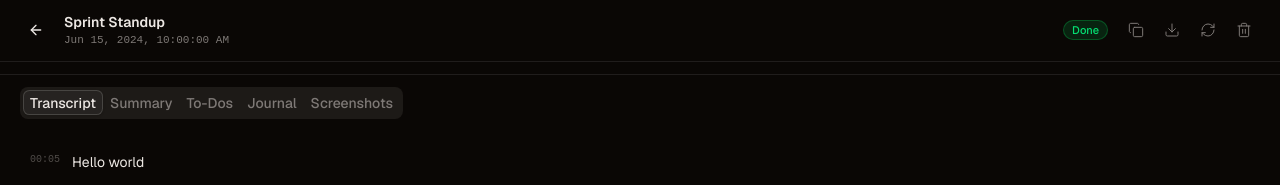
Test: Transcript › shows an empty screenshots message when none were captured
This screenshot has width=1280, height=185.
Click the tab "Screenshots" at [352, 102], box [304,90,400,115]
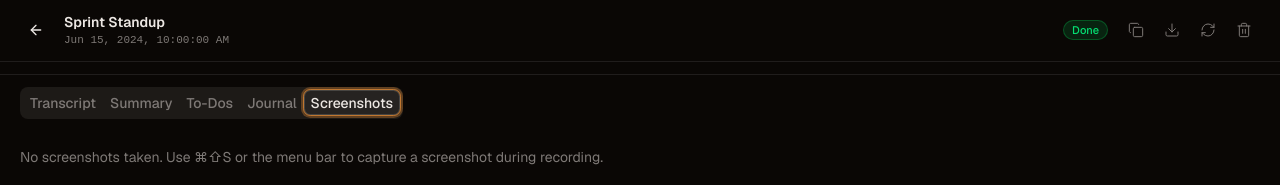
Result: the text "No screenshots taken" is shown at [20,148,603,166]
